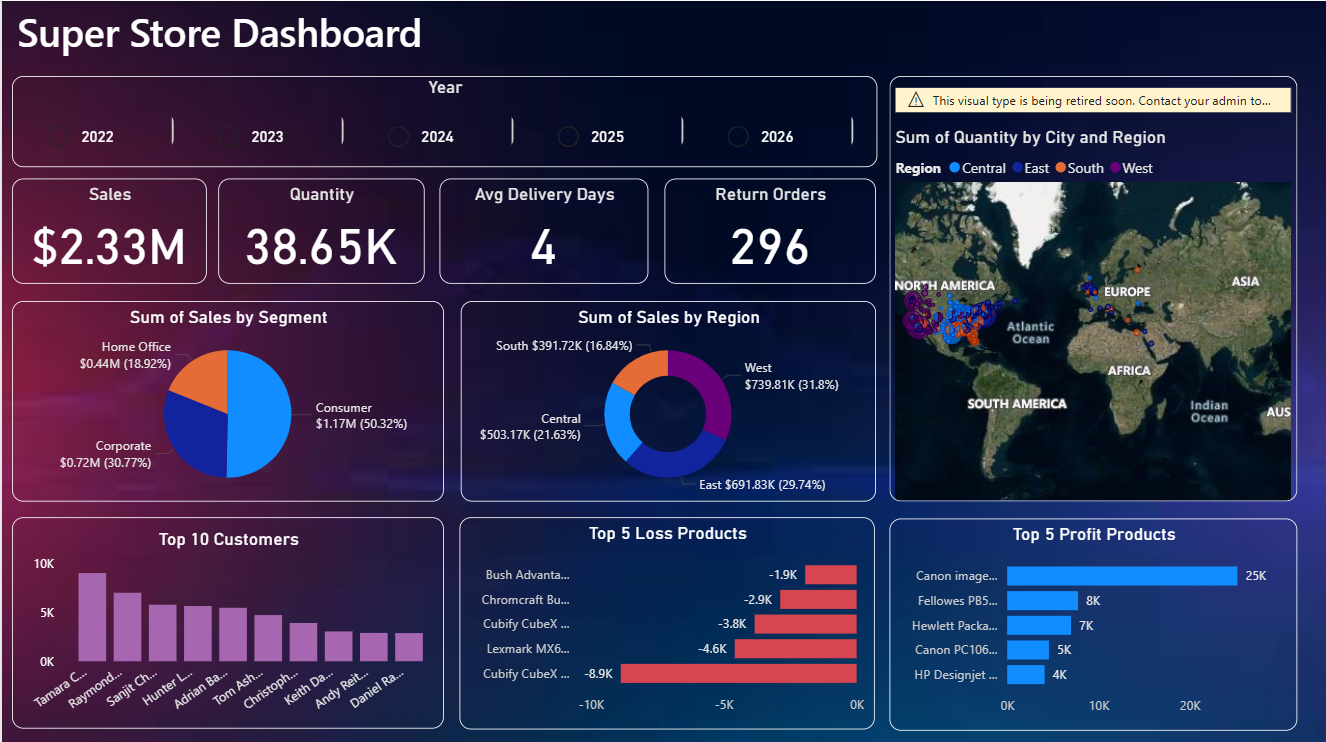

This screenshot's page, from the dashboard's own definition file:
{"tool":"powerbi","page":{"name":"Page 1","canvas":[1280,720],"ordinal":0},"visuals":[{"type":"card","title":"Sales","fields":{"Values":["Sum(Orders.Sales)"]},"box":[9.6,171.5,188,101.5],"z":0},{"type":"card","title":"Quantity","fields":{"Values":["Sum(Orders.Quantity)"]},"box":[208.6,171.5,199,101.5],"z":1000},{"type":"card","title":"Avg Delivery Days","fields":{"Values":["Avg(Orders.Delivery days)"]},"box":[422.6,171.5,201.7,101.5],"z":2000},{"type":"advancedSlicerVisual","fields":{"Values":["Orders.Year"]},"box":[9.7,72.4,834.9,88.1],"z":3000},{"type":"card","title":"Return Orders","fields":{"Values":["Sum(Returns.Return order)"]},"box":[640,171.2,203.8,101.2],"z":4000},{"type":"map","fields":{"Size":["Sum(Orders.Quantity)"],"Category":["Orders.City"],"Series":["Orders.Region"]},"box":[856.6,72.4,393.3,410.2],"z":5000},{"type":"barChart","title":"Top 5 Profit Products","fields":{"Y":["Sum(Orders.Profit)"],"Category":["Orders.Product Name"]},"box":[856.3,499.5,393.8,204.5],"z":6000},{"type":"barChart","title":"Top 5 Loss Products","fields":{"Y":["Sum(Orders.Profit)"],"Category":["Orders.Product Name"]},"box":[441.9,498.1,400.7,204.5],"z":7000},{"type":"pieChart","fields":{"Category":["Orders.Segment"],"Y":["Sum(Orders.Sales)"]},"box":[9.6,289.5,417.2,193.5],"z":8000},{"type":"donutChart","fields":{"Category":["Orders.Region"],"Y":["Sum(Orders.Sales)"]},"box":[443.2,289.5,400.7,193.5],"z":9000},{"type":"clusteredColumnChart","title":"Top 10 Customers","fields":{"Category":["Orders.Customer Name"],"Y":["Sum(Orders.Profit)"]},"box":[10,498,417,204],"z":10000},{"type":"textbox","box":[9.7,0,492.2,72.4],"z":11000}]}

Visuals, with their boxes in screenshot pixels (x1, y1, x2, y2), scaled from the page's 1280x720 canvas onto the 1326x742 screenshot:
"Sales" card: crop(10, 177, 205, 281)
"Quantity" card: crop(216, 177, 422, 281)
"Avg Delivery Days" card: crop(438, 177, 647, 281)
advancedSlicerVisual - Orders.Year: crop(10, 75, 875, 165)
"Return Orders" card: crop(663, 176, 874, 281)
map - Sum(Orders.Quantity) x Orders.City: crop(887, 75, 1295, 497)
"Top 5 Profit Products" barChart: crop(887, 515, 1295, 726)
"Top 5 Loss Products" barChart: crop(458, 513, 873, 724)
pieChart - Orders.Segment x Sum(Orders.Sales): crop(10, 298, 442, 498)
donutChart - Orders.Region x Sum(Orders.Sales): crop(459, 298, 874, 498)
"Top 10 Customers" clusteredColumnChart: crop(10, 513, 442, 723)
textbox: crop(10, 0, 520, 75)
